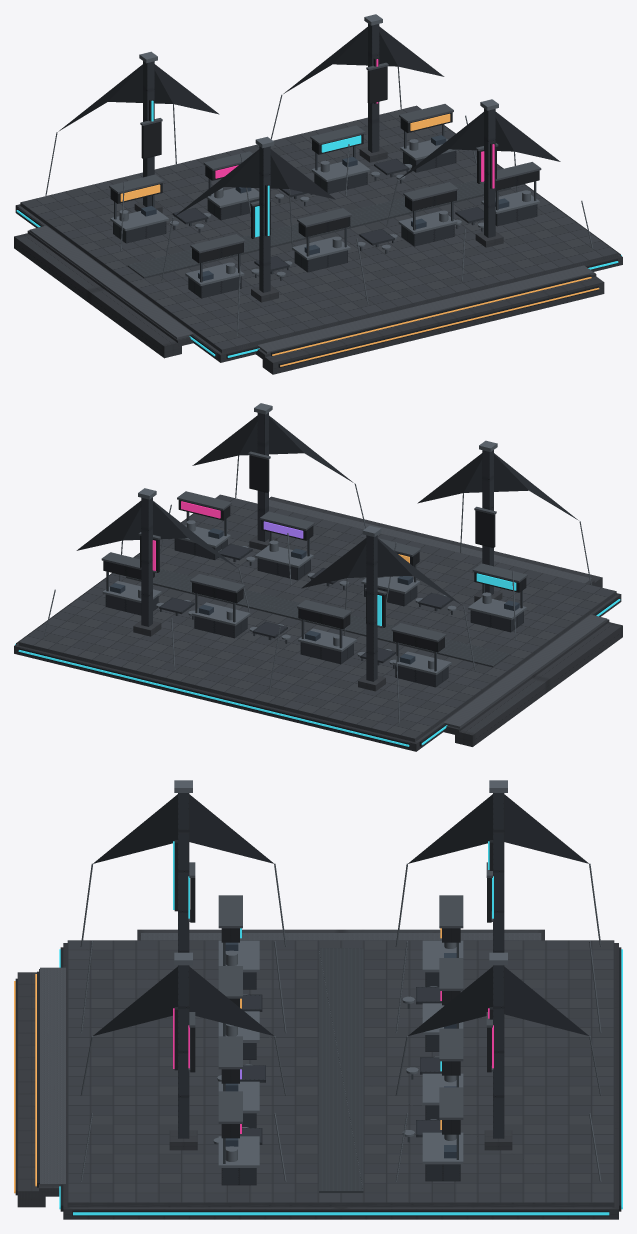
Rendered from civic-cyberpunk-night-market-built.glb.
The picture shows the model from 3 angles, top to bottom: view 1: azimuth 30°, elevation 25°; view 2: azimuth 150°, elevation 25°; view 3: azimuth 270°, elevation 25°; orthographic projection. The views are drawn at different scales.
Bounding box in the file's own units: 36.67 × 14.25 × 32.87.
Materials: 25 (14 with a texture image).
